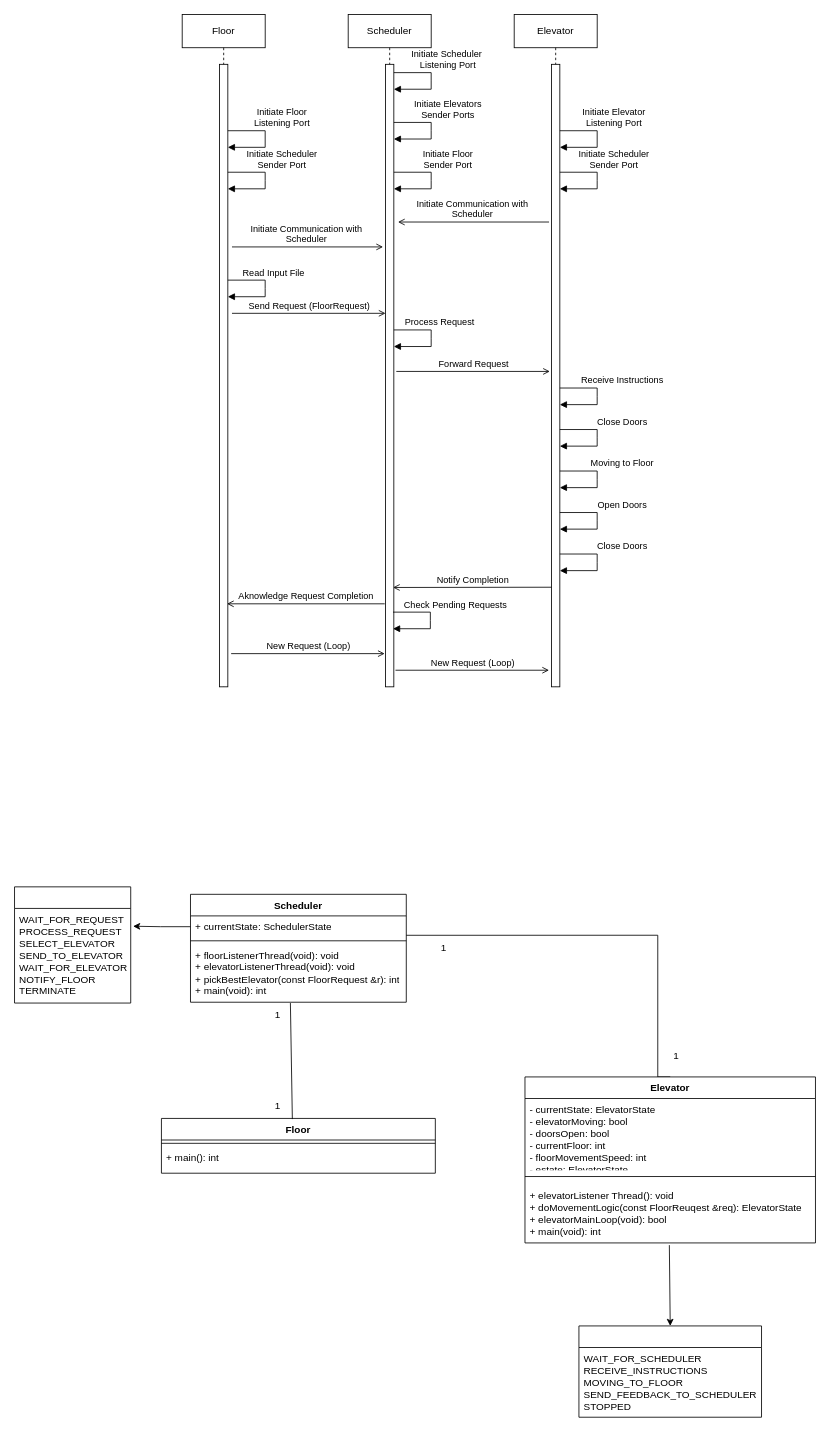
The diagram is 830 pixels wide and 1434 high, and some of its shapes have lost their labels. The box of each missing label's shape, as (x1, y1, x2, y2) in pixels:
ElevatorState: (578, 1325, 762, 1417)
SchedulerState: (14, 886, 131, 1003)
